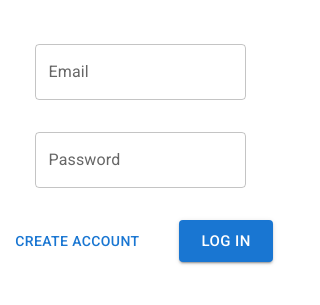
Scenario: LoginPage › displays error on failed login
Type "email" into the field labelled "Email". click: [140, 72]
box: x1=34 y1=44 x2=246 y2=100
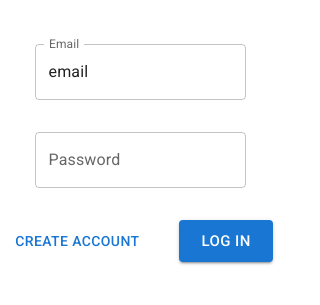
Type "password" into the password field labelled "Password". click: [140, 160]
box: x1=34 y1=132 x2=246 y2=188
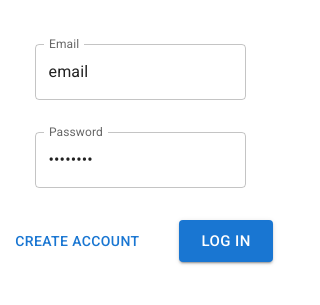
Click the button. click: [226, 241]
box: x1=180 y1=220 x2=273 y2=262
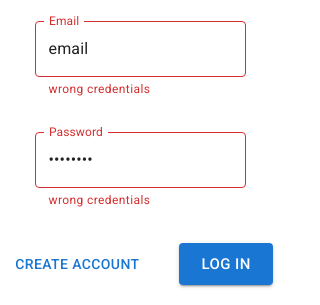
Expected: the text "wrong credentials" is shown 2 times, x1=48 y1=82 x2=150 y2=96; x1=48 y1=193 x2=150 y2=207
